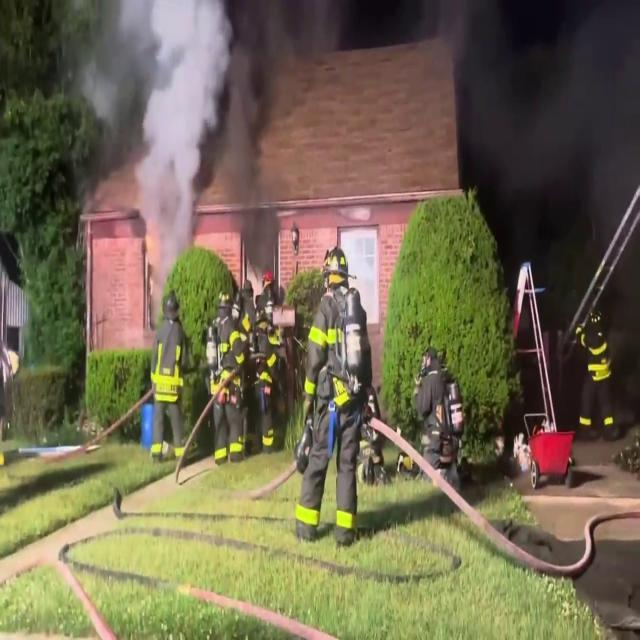Smoke: (82, 2, 323, 262), (463, 2, 640, 294)
